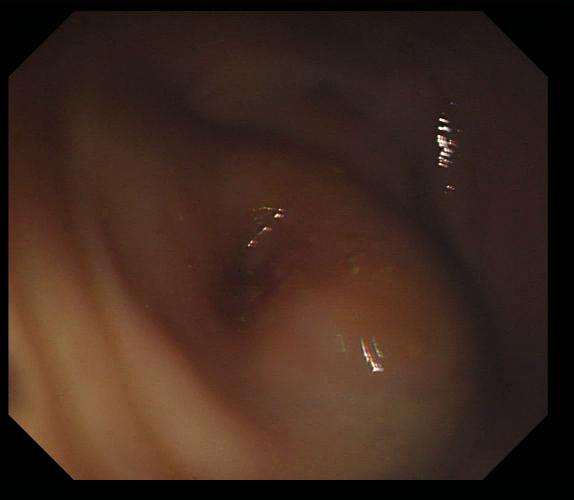polyp: (260, 249, 485, 441)
